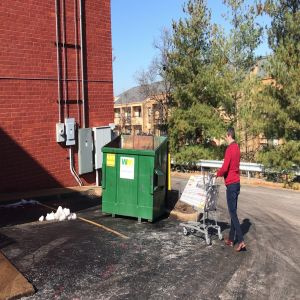Dumpster: (100, 131, 169, 226)
Person: (215, 127, 254, 255)
